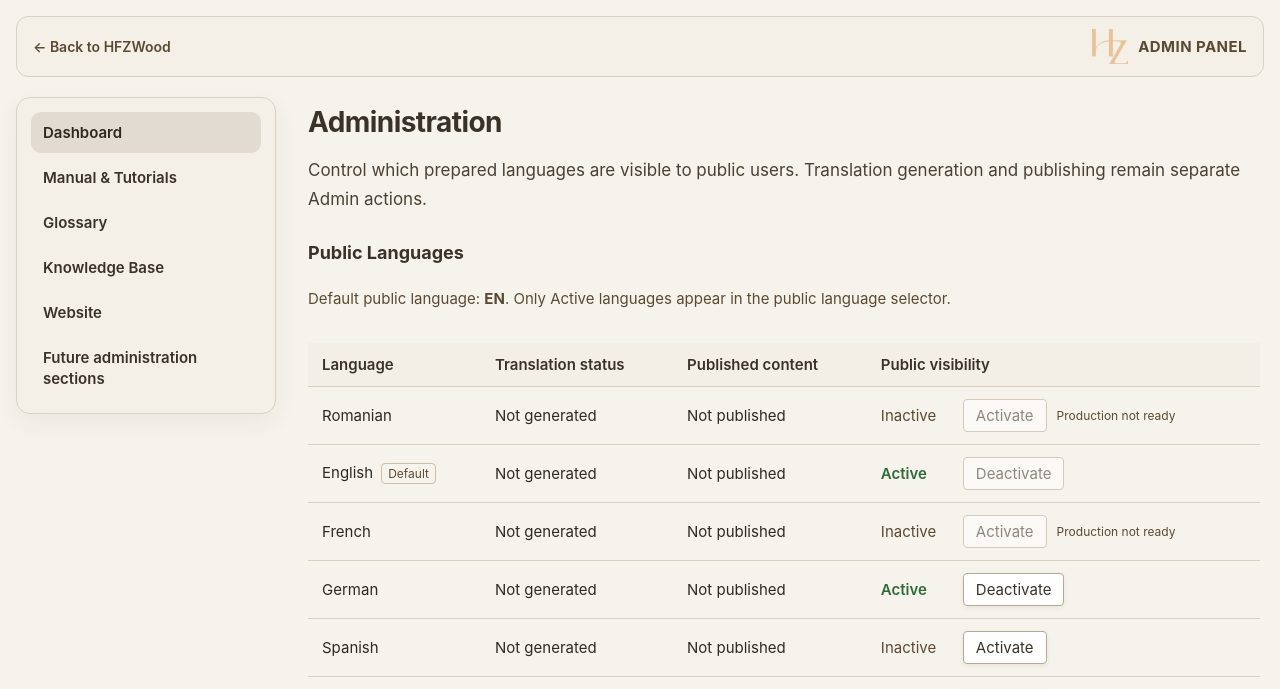
Test: Admin Locale Readiness overview › keeps Deactivate available for an active non-default locale regardless of readiness
Click the 2nd button "Deactivate": point(1014, 589) [963, 572, 1064, 606]
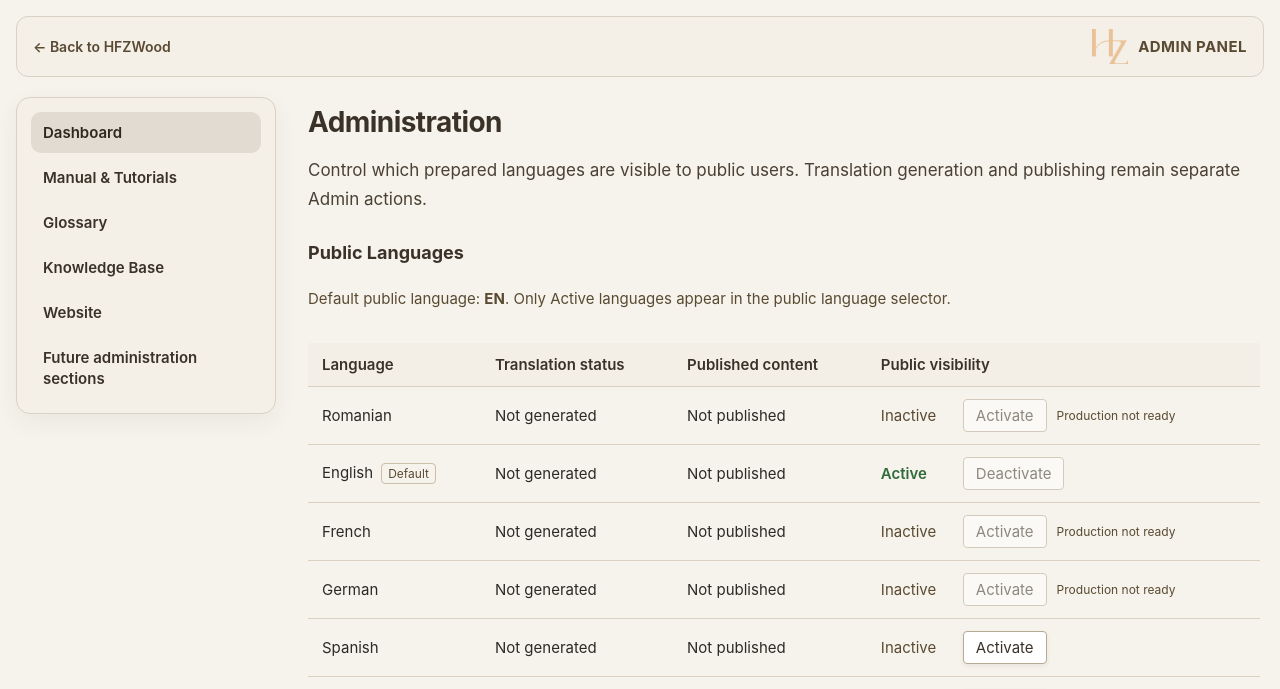
Expected: the 3rd text "Inactive" is shown, [881, 580, 936, 598]
Expected: the 3rd button "Activate" is disabled, [963, 572, 1047, 606]
